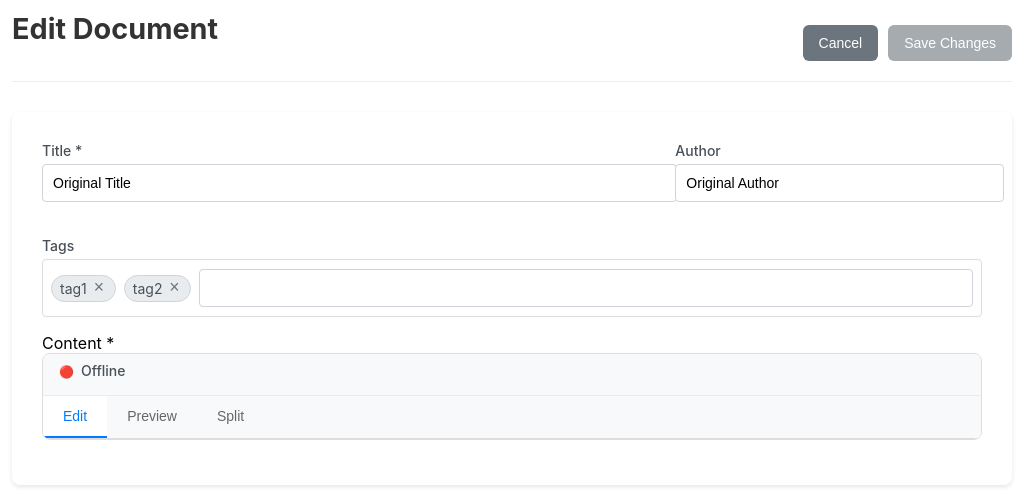
Test: DocumentEdit › form validation › Save button is enabled when changes are made
Replace the text in the field labelled "Title *" with "Modified Title". click: (360, 183)
box: [42,164,677,202]
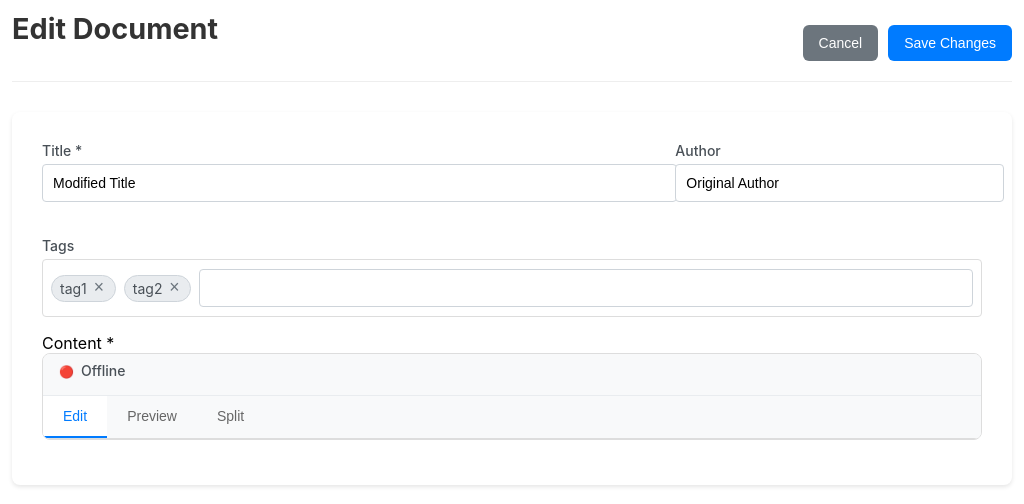
Expected: the button "Save Changes" is enabled, [888,25,1012,61]
